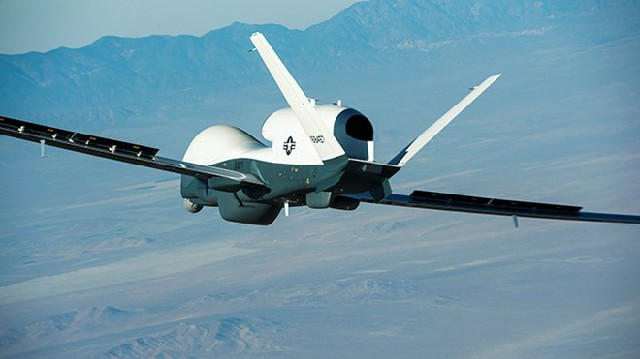maybay_khongnguoilai: (10, 40, 639, 232)
